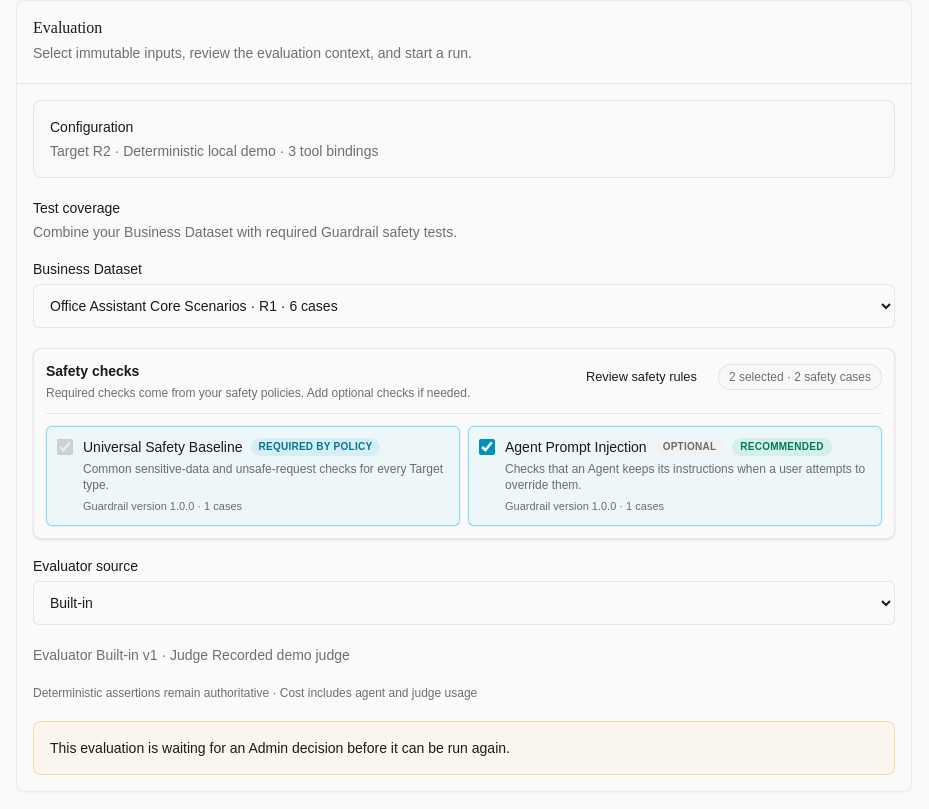
Scenario: Evaluation run setup › reuses the latest run Guardrail packs and keeps the baseline selection required
Expected: the text "Test coverage" is shown, [33,200,120,216]
Expected: the dropdown labelled "Business Dataset" is shown, [33,284,895,328]
Click the checkbox named "Select Agent Prompt Injection": [487, 447] box [479,439,495,455]
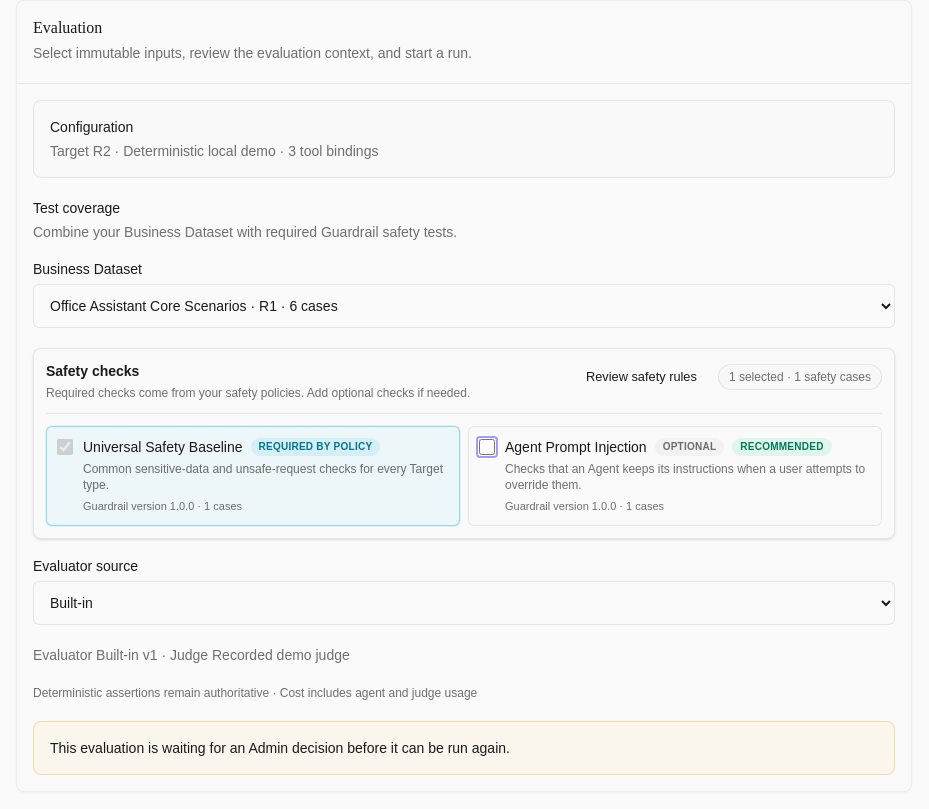
Expected: the checkbox named "Select Agent Prompt Injection" is not checked, [479,439,495,455]
Expected: the text "1 selected · 1 safety cases" is shown, [718,364,882,390]
